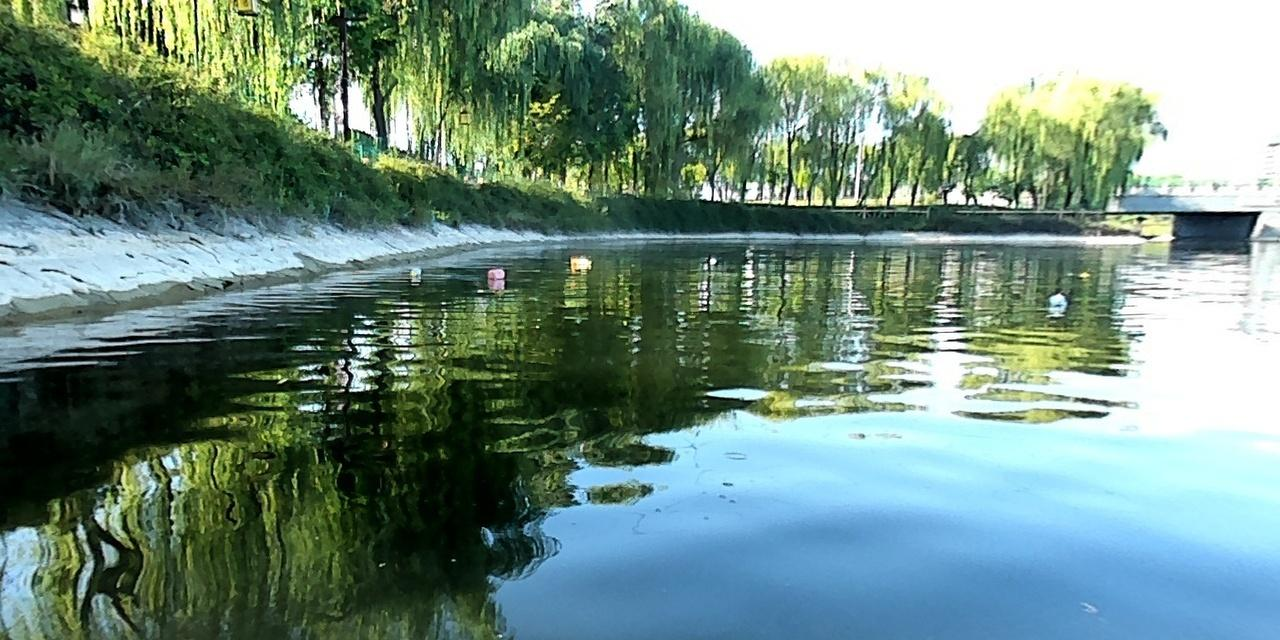bottle: (568, 252, 593, 272), (1042, 289, 1067, 308), (483, 265, 504, 280), (404, 263, 425, 278)
